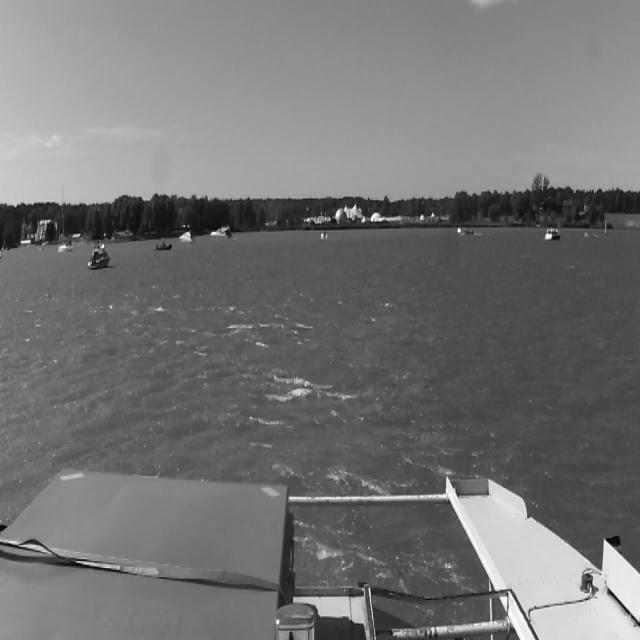buoy: (602, 214, 609, 238), (370, 219, 374, 239)
ship: (56, 179, 74, 255), (87, 236, 115, 271), (208, 222, 234, 242), (543, 222, 561, 244), (154, 235, 174, 253), (177, 228, 197, 246), (453, 225, 478, 238), (319, 226, 330, 245), (35, 243, 43, 253)
